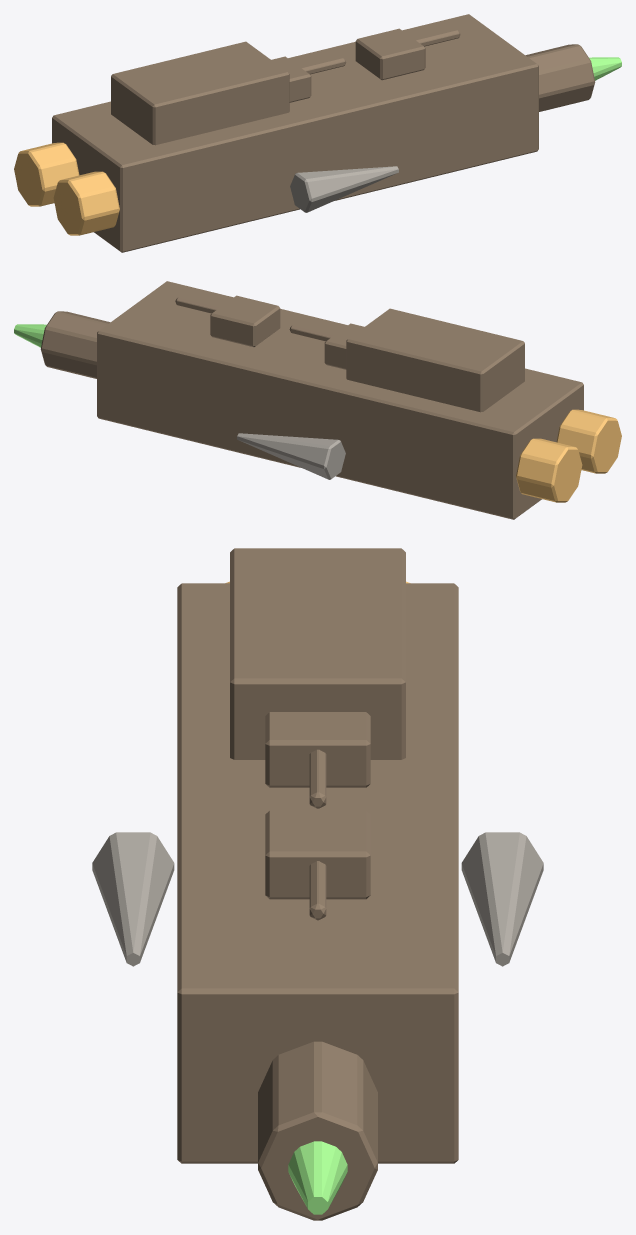
Rendered from SM_CorsairGunship.fbx.
The picture shows the model from 3 angles, top to bottom: view 1: azimuth 30°, elevation 25°; view 2: azimuth 150°, elevation 25°; view 3: azimuth 270°, elevation 25°; orthographic projection. The views are drawn at different scales.
Parts seen in each view (by area): view 1: SM_CorsairGunship; view 2: SM_CorsairGunship; view 3: SM_CorsairGunship.
Part boxes in pixels (x1,y1,x2,y2): SM_CorsairGunship: (14,14,621,252); SM_CorsairGunship: (14,281,621,519); SM_CorsairGunship: (92,548,543,1220).
Size of the model in its own units: 150 by 32 by 51.34.
